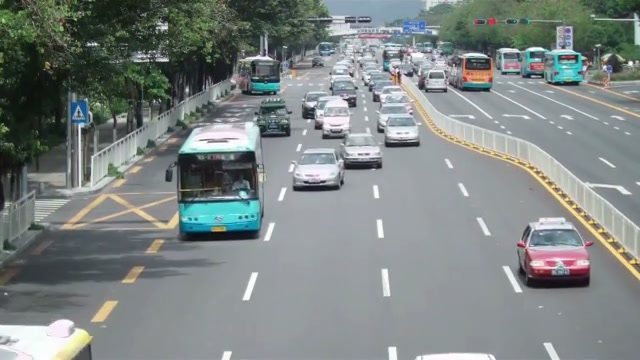bus: (175, 121, 266, 239), (239, 56, 281, 95), (543, 50, 586, 85), (458, 52, 493, 91), (520, 47, 547, 78), (495, 48, 523, 75)
car: (515, 217, 594, 287), (0, 319, 94, 359), (290, 147, 346, 191), (341, 132, 383, 169), (317, 99, 351, 138), (383, 113, 421, 147), (375, 103, 413, 133), (301, 91, 330, 120), (331, 79, 359, 107), (424, 70, 448, 93), (312, 57, 325, 68)
pedestrian: (231, 171, 251, 192), (600, 62, 611, 87)
